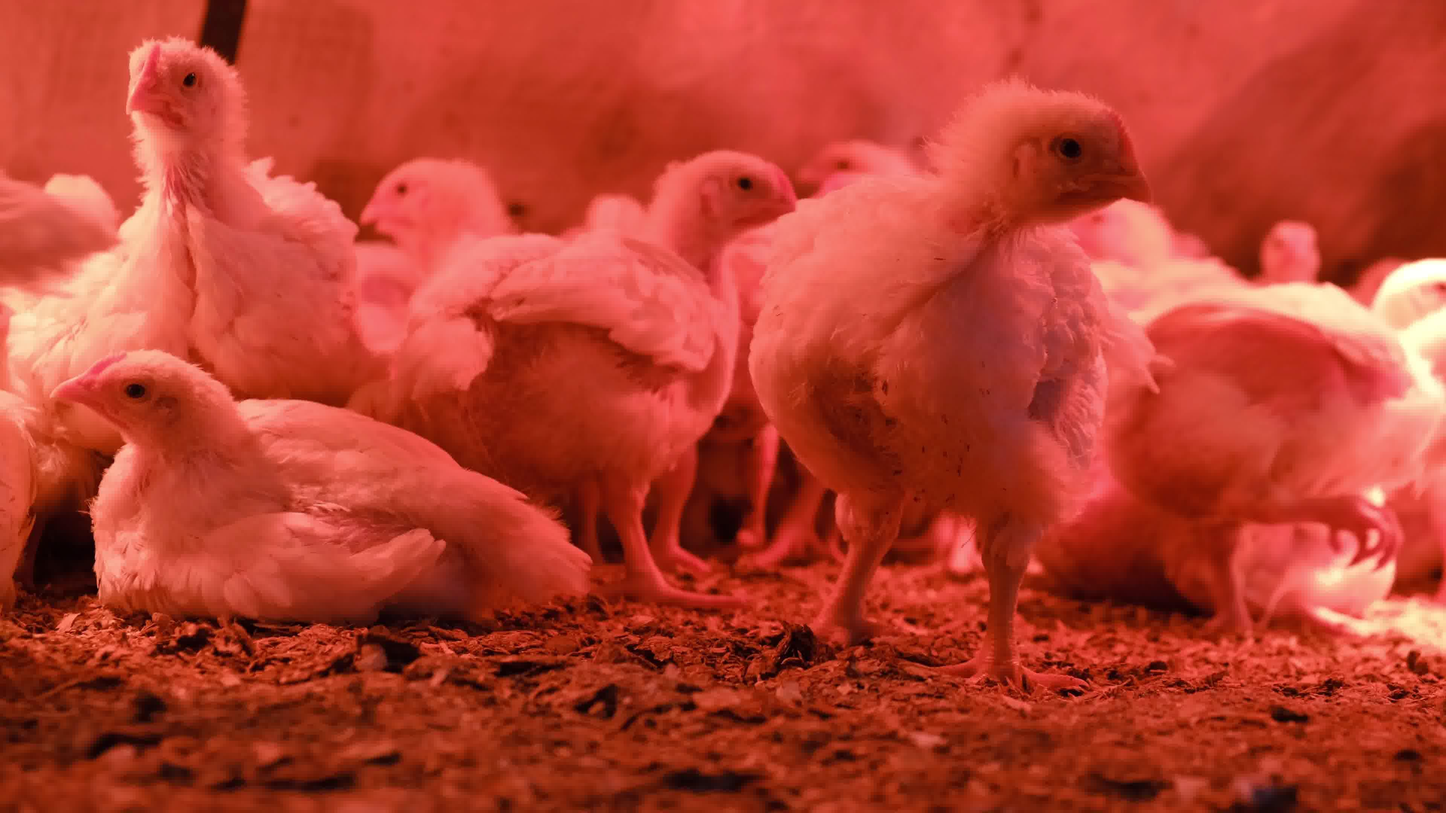AbNormal: (38, 341, 591, 647), (1182, 457, 1423, 634)
Normal: (781, 73, 1154, 689), (392, 139, 779, 608), (68, 28, 399, 365), (1132, 258, 1446, 606), (328, 137, 535, 292), (1226, 179, 1356, 333)
